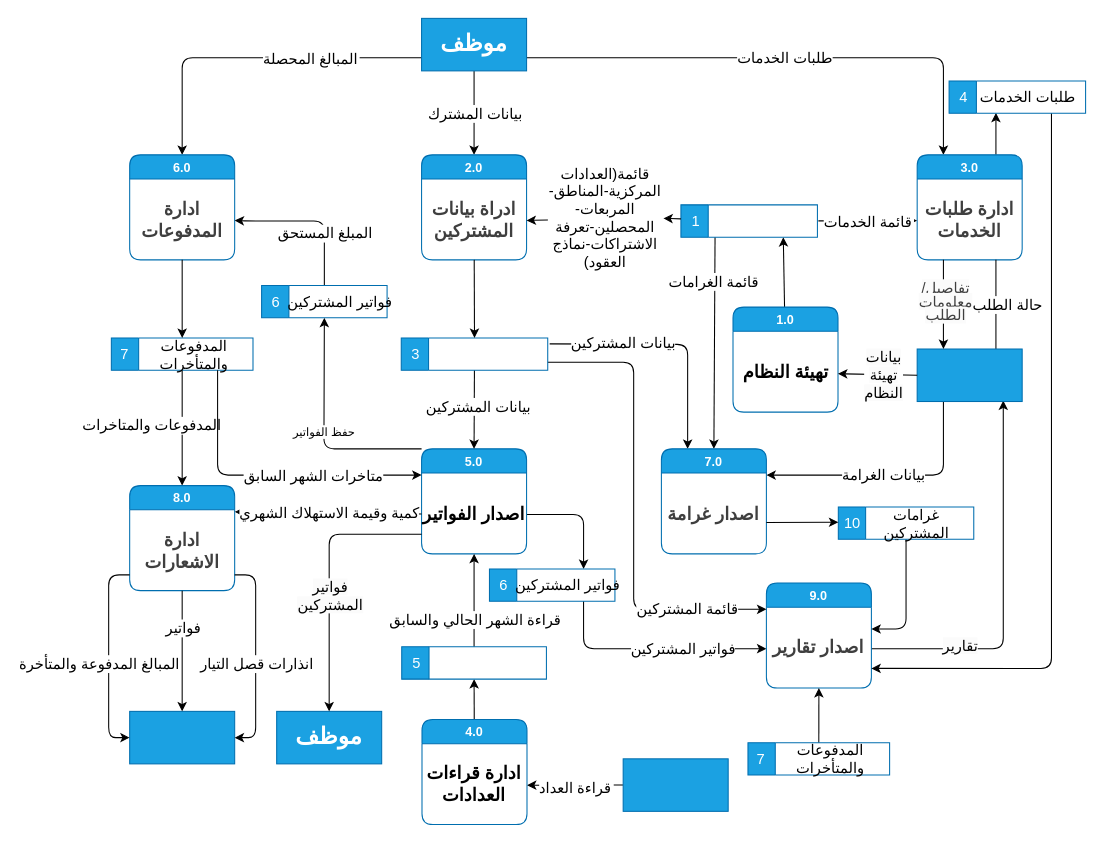
Image size: 1105x843. Some labels were removed from this diagram. Here are the shapes that lost their labels. From the top down, the centre of each, then its label:
point 748,220: بيانات التهيئة
point 474,353: ملف المشتركين
point 969,375: ادارة المحطة
point 473,662: قراءات العدادات
point 182,737: مشترك
point 675,784: العداد
